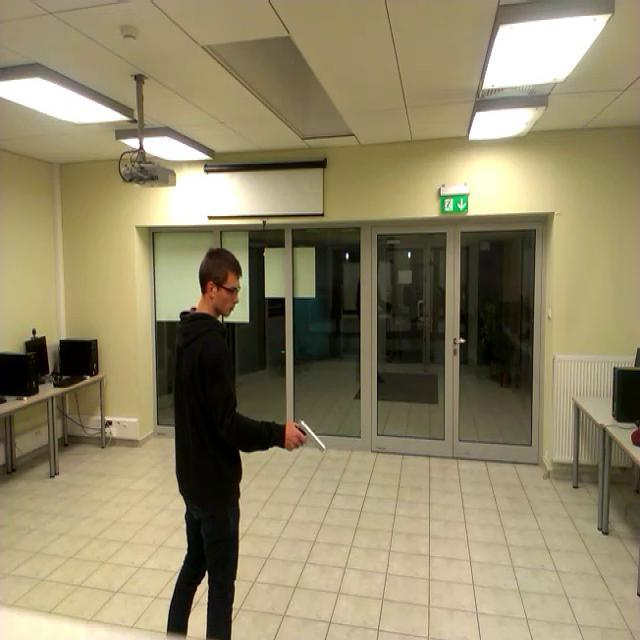Gun: (294, 418, 325, 451)
